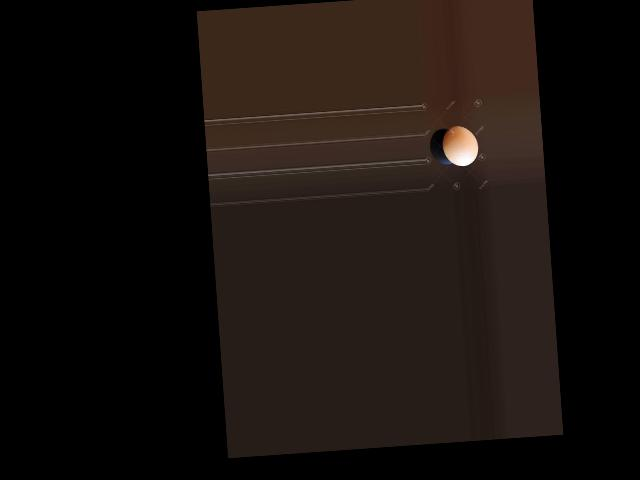egg: (440, 124, 479, 167)
